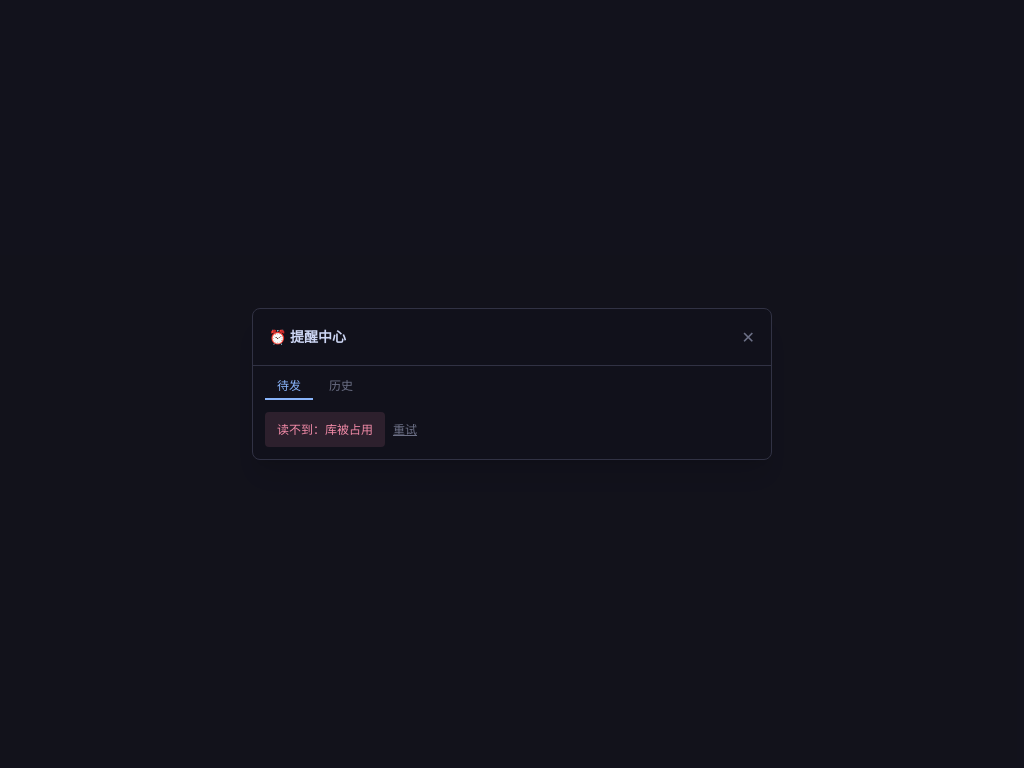
Test: 提醒中心：清单已经在屏上、那一发又没读到时，原因必须有出口 › R6 切 tab 时不许把上一个 tab 那句「读不到」挂到新一屏的加载中位上
Click the button "历史". click: (341, 387)
box: [317,374,365,400]
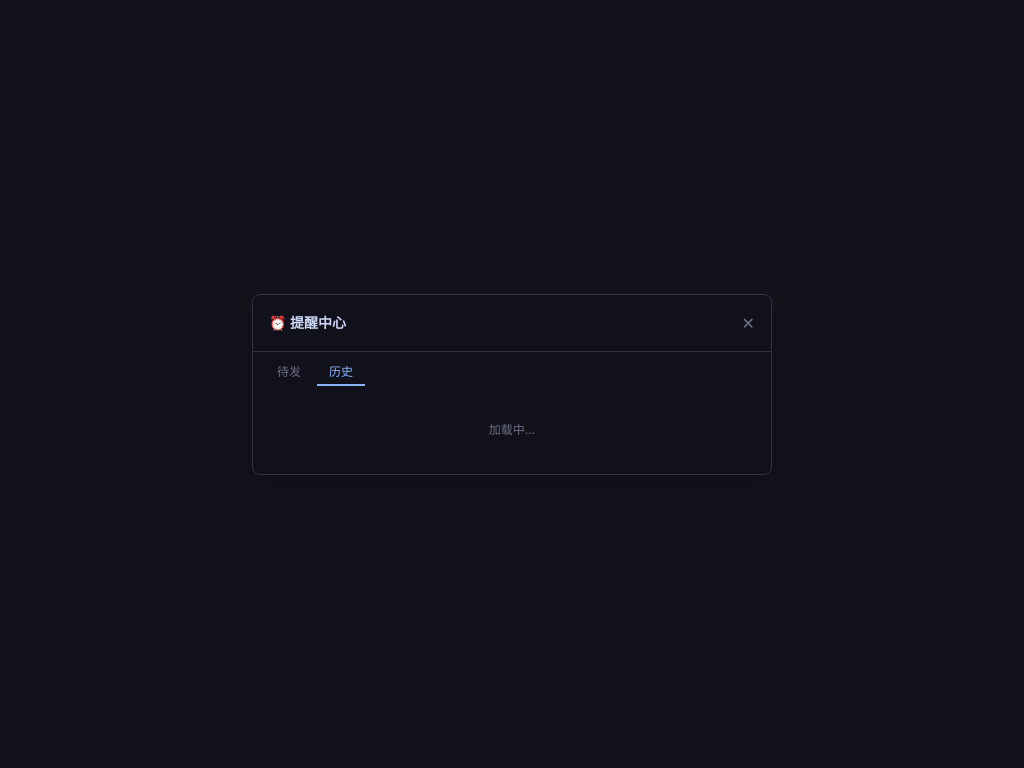
Expected: the text "加载中…" is shown, [489,422,535,436]
